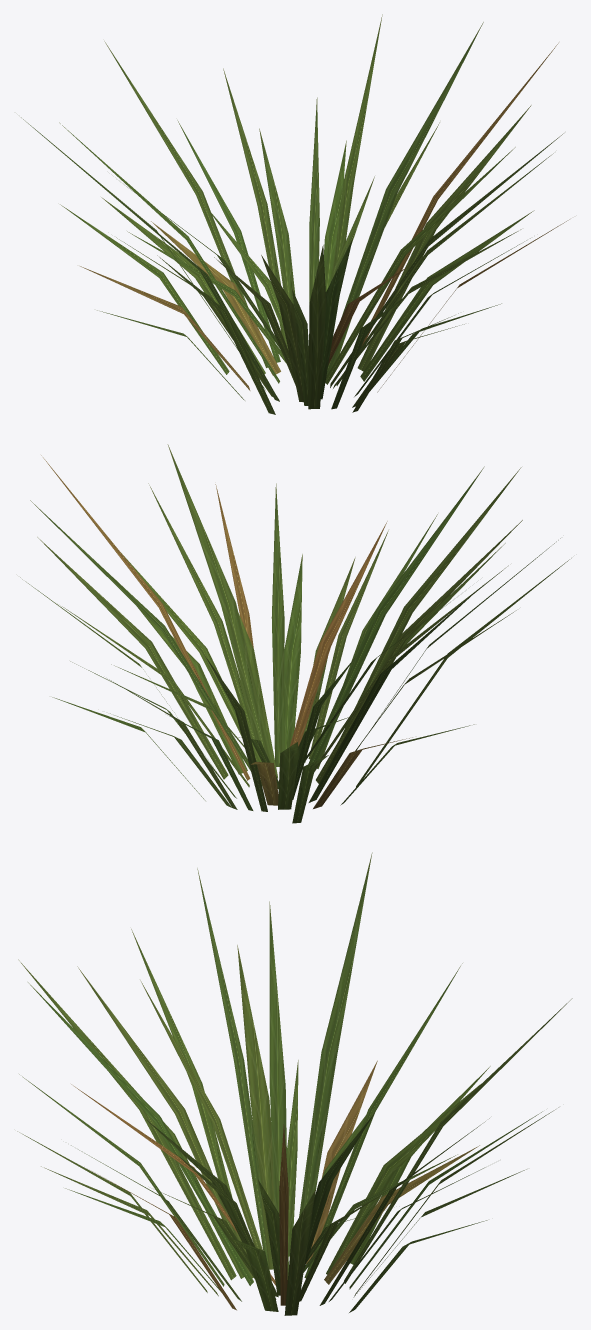
File: Kerala_Grass_Tuft.glb
The picture shows the model from 3 angles, top to bottom: view 1: azimuth 30°, elevation 25°; view 2: azimuth 150°, elevation 25°; view 3: azimuth 270°, elevation 25°; orthographic projection. The views are drawn at different scales.
Visible parts, largest first — view 1: Kerala_Grass_Tuft; view 2: Kerala_Grass_Tuft; view 3: Kerala_Grass_Tuft.
Part boxes in pixels (x1,y1,x2,y2): Kerala_Grass_Tuft: (21, 14, 569, 414); Kerala_Grass_Tuft: (20, 444, 571, 823); Kerala_Grass_Tuft: (17, 852, 572, 1315).
Size of the model in its own units: 0.829 by 0.48 by 0.7887.
1 material, 1 textured.
